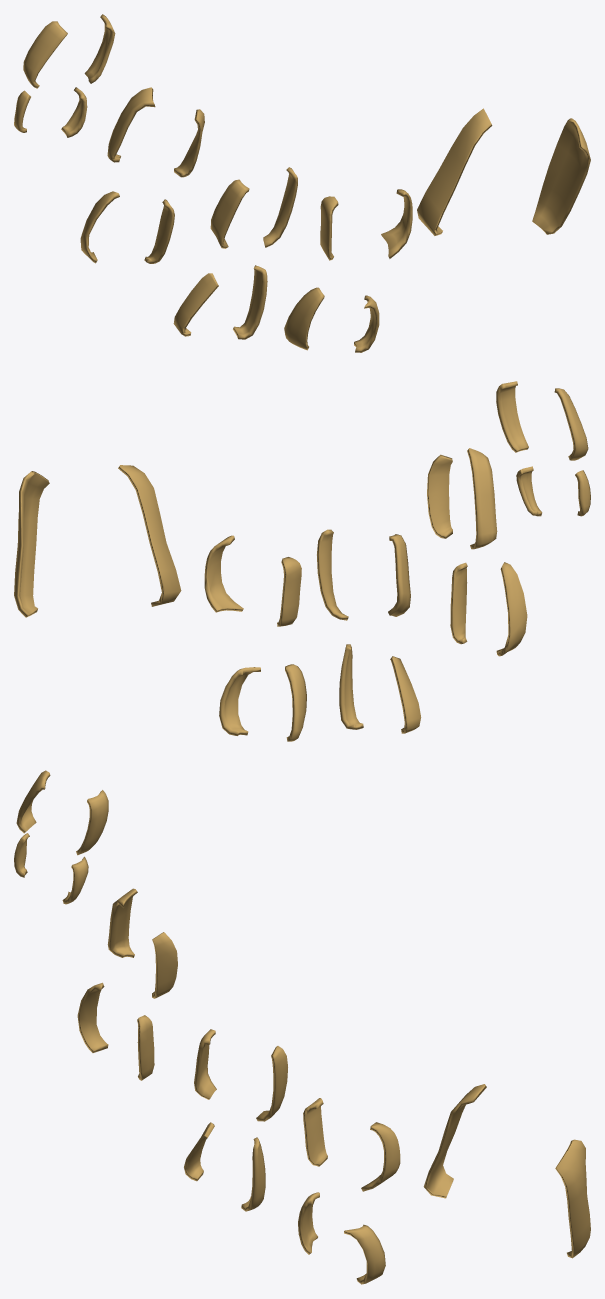
3 renders of one model, top to bottom at view 1: azimuth 30°, elevation 25°; view 2: azimuth 150°, elevation 25°; view 3: azimuth 330°, elevation 25°, orthographic. The views are drawn at different scales.
Parts seen in each view (by area): view 1: 右侧足趾间关节侧副韧带; view 2: 右侧足趾间关节侧副韧带; view 3: 右侧足趾间关节侧副韧带.
Part boxes in pixels (x1,y1,x2,y2): 右侧足趾间关节侧副韧带: [14, 14, 590, 352]; 右侧足趾间关节侧副韧带: [14, 381, 590, 741]; 右侧足趾间关节侧副韧带: [14, 770, 590, 1284].
Bounding box in the file's own units: 0.115 × 0.0802 × 0.0136.
